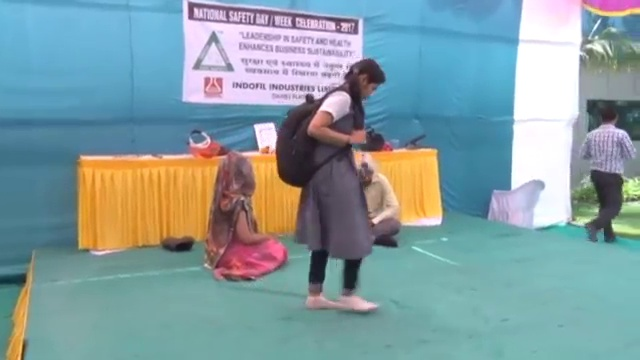helmet_off: (345, 57, 386, 104), (217, 153, 256, 195), (355, 150, 377, 189), (599, 98, 620, 127)
person: (274, 57, 386, 315), (202, 151, 287, 283), (581, 98, 635, 243), (352, 149, 402, 249)
